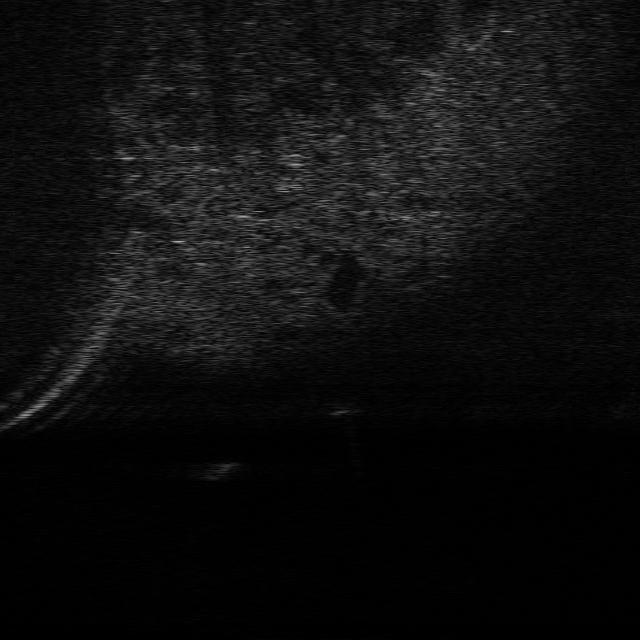cube: (322, 396, 360, 416)
cylinder: (200, 460, 232, 479)
